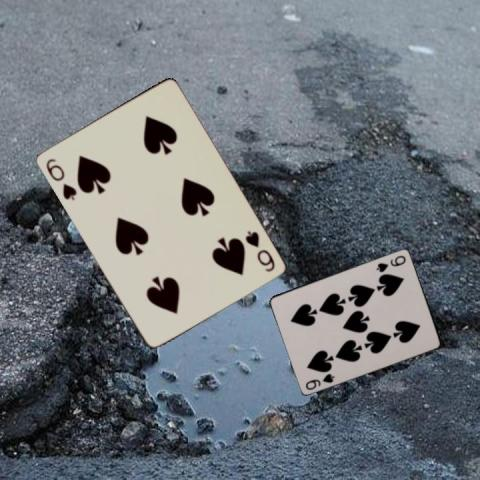6s: (42, 155, 78, 202), (241, 228, 276, 274)
9s: (374, 252, 408, 273), (303, 370, 336, 391)
